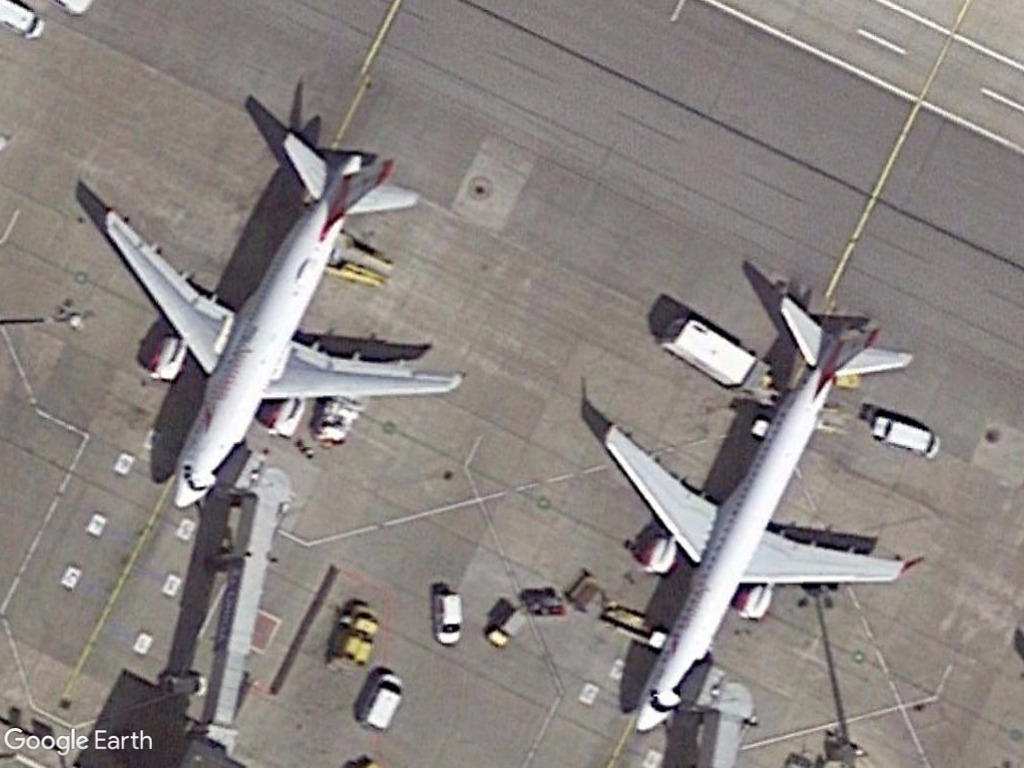airliner: (95, 125, 471, 514), (596, 292, 920, 737)
van: (357, 671, 406, 732), (881, 413, 944, 460), (432, 586, 465, 648)
